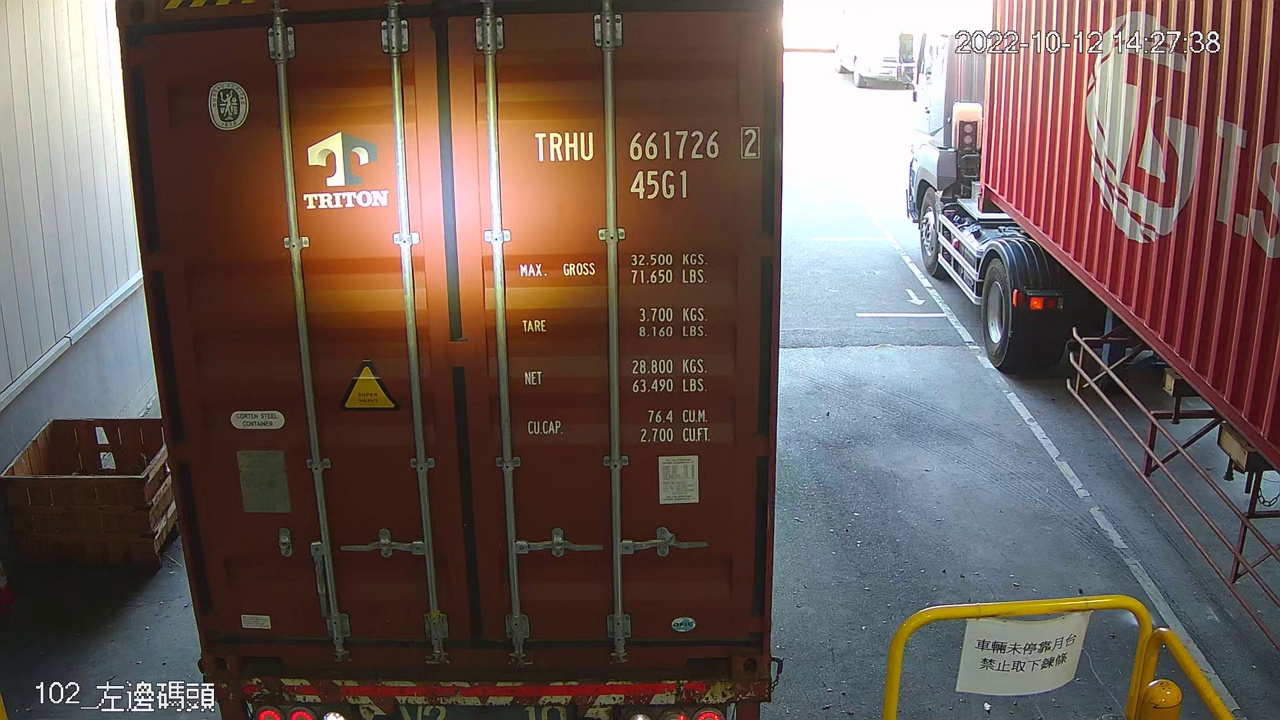container: (526, 119, 766, 209)
